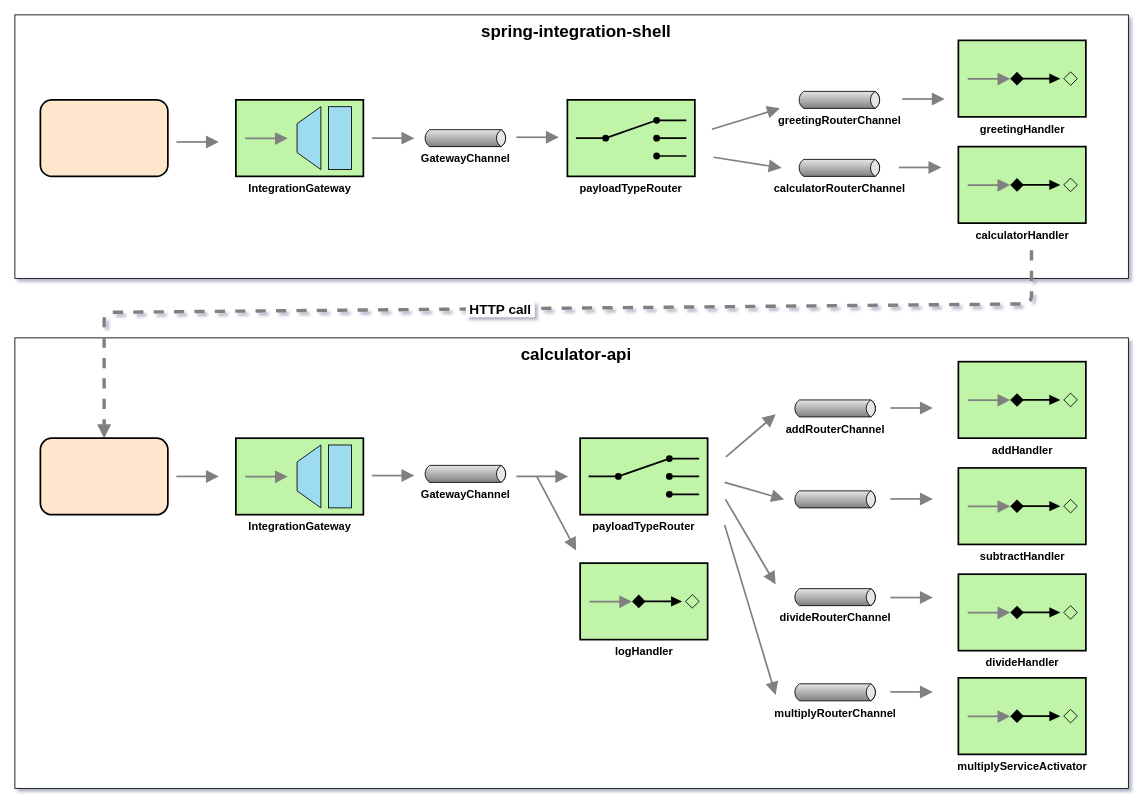
Some shapes in this 1148 by 808 pixel diagram are drawn without their labels. The centre of each missing label's shape, as x and y in pixels:
"Calculator Controller" belongs at point 103,476.
"SpringIntegration Commands" belongs at point 103,138.
"subtractRouterChannel" belongs at point 835,499.
